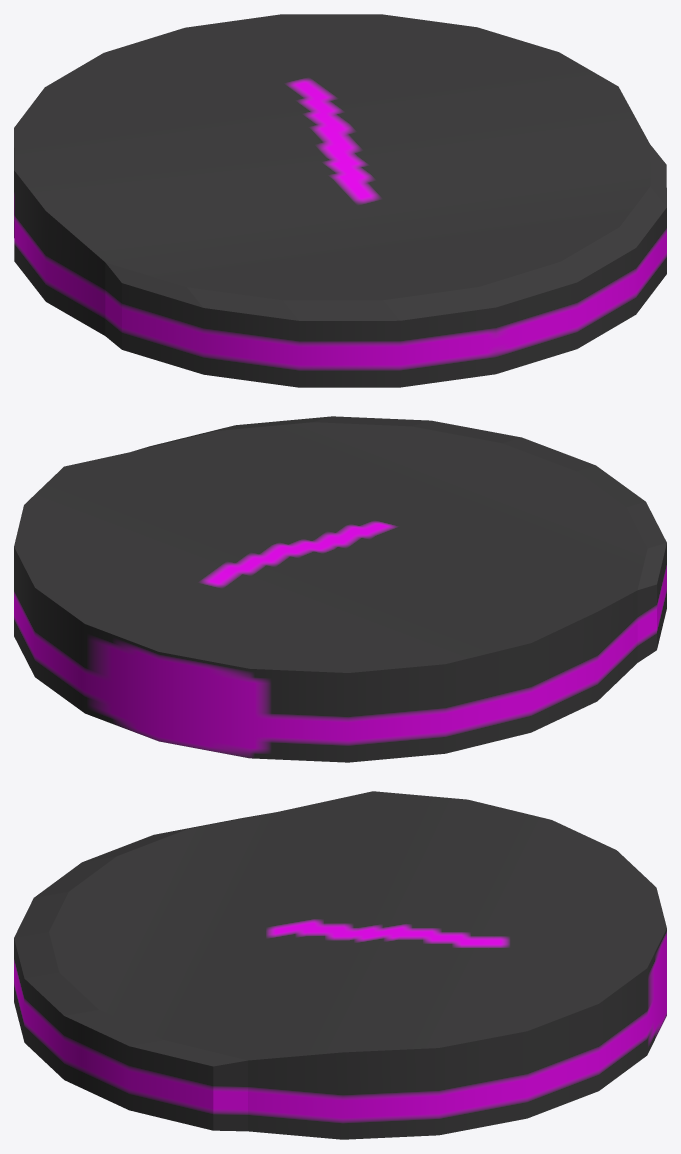
The model's file is cleaning_robot.fbx.
The picture shows the model from 3 angles, top to bottom: view 1: azimuth 30°, elevation 25°; view 2: azimuth 150°, elevation 25°; view 3: azimuth 270°, elevation 25°; orthographic projection. The views are drawn at different scales.
Parts seen in each view (by area): view 1: clean_robot; view 2: clean_robot; view 3: clean_robot.
Part boxes in pixels (x1,y1,x2,y2): clean_robot: (14,14,666,387); clean_robot: (14,416,666,762); clean_robot: (14,791,666,1139).
Size of the model in its own units: 47.86 by 7.46 by 50.56.
